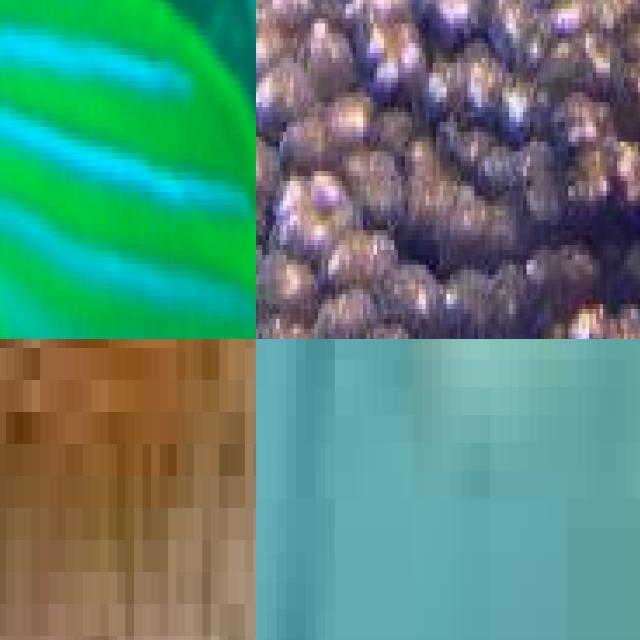fish: (0, 0, 256, 339)
